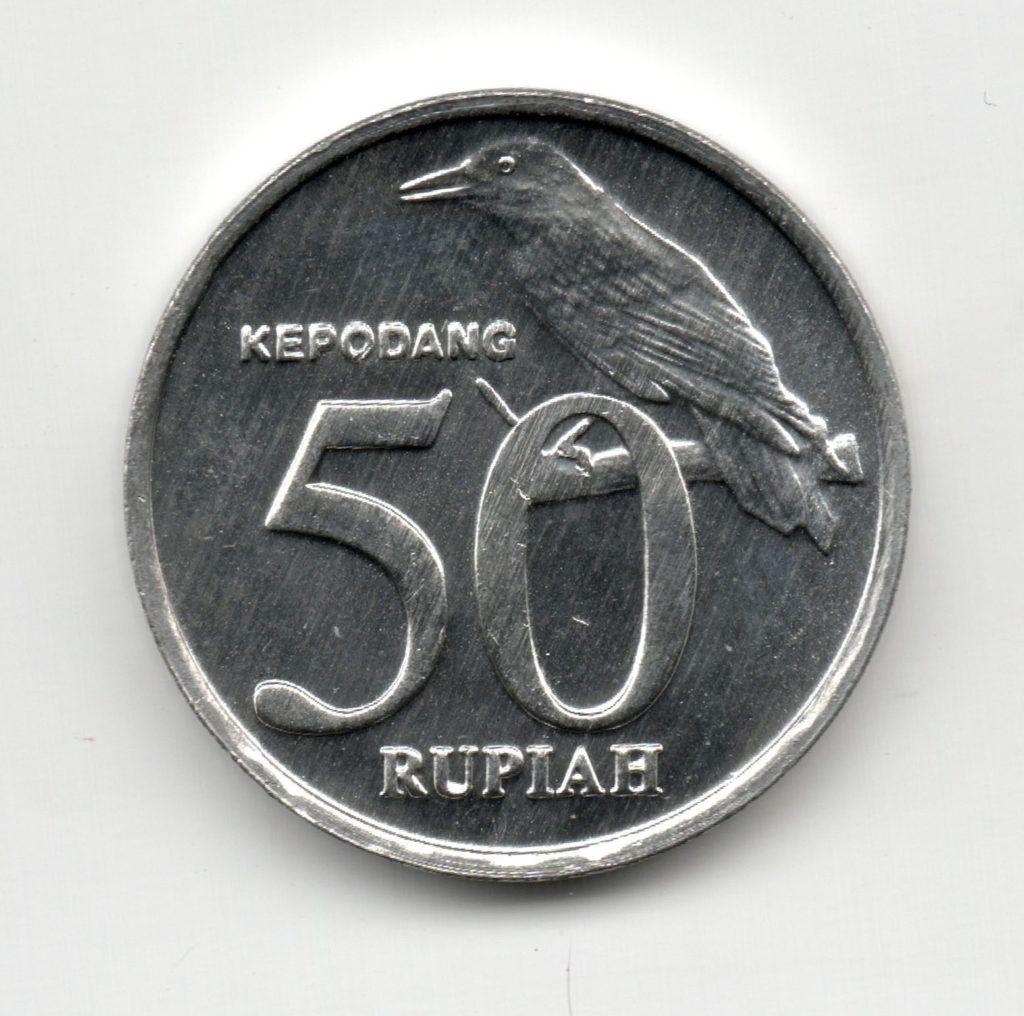coin_50_1999: (122, 87, 921, 882)
